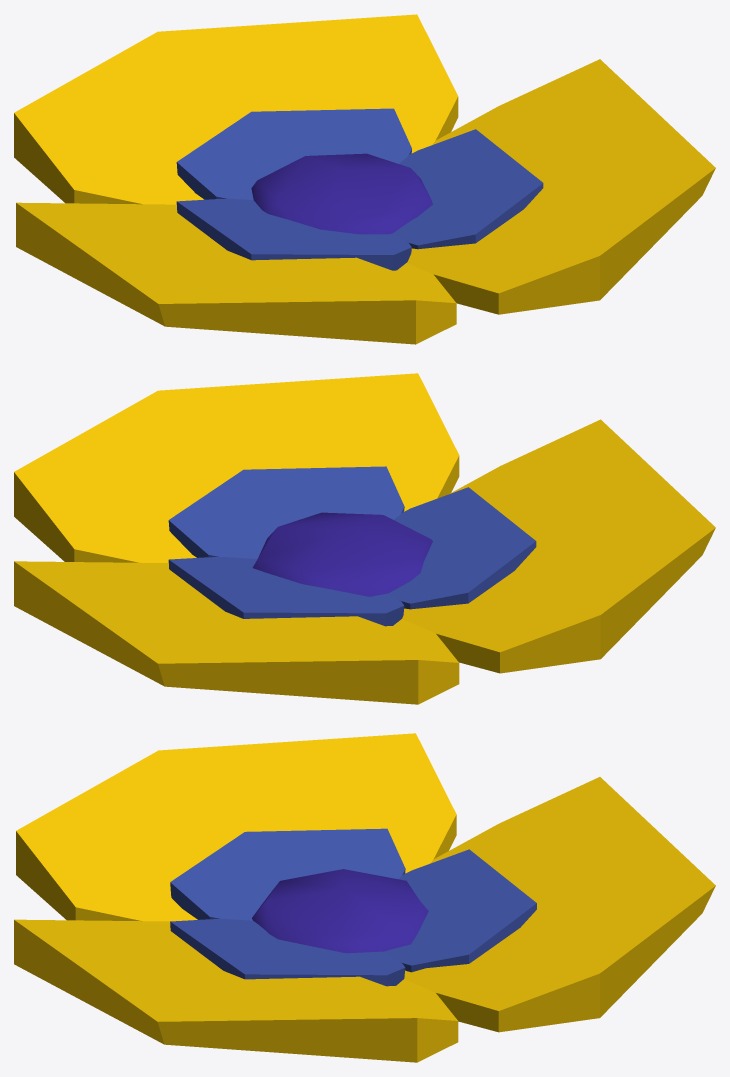
File: GeelBlauw.fbx
The picture shows the model from 3 angles, top to bottom: view 1: azimuth 30°, elevation 25°; view 2: azimuth 150°, elevation 25°; view 3: azimuth 270°, elevation 25°; orthographic projection.
Parts seen in each view (by area): view 1: Cube.010; view 2: Cube.010; view 3: Cube.010.
Boxes of the visible parts, bbox=[...] form: Cube.010: bbox=[14, 14, 715, 344]; Cube.010: bbox=[14, 373, 715, 704]; Cube.010: bbox=[14, 733, 715, 1062].
Bounding box in the file's own units: 256 × 44.18 × 266.
